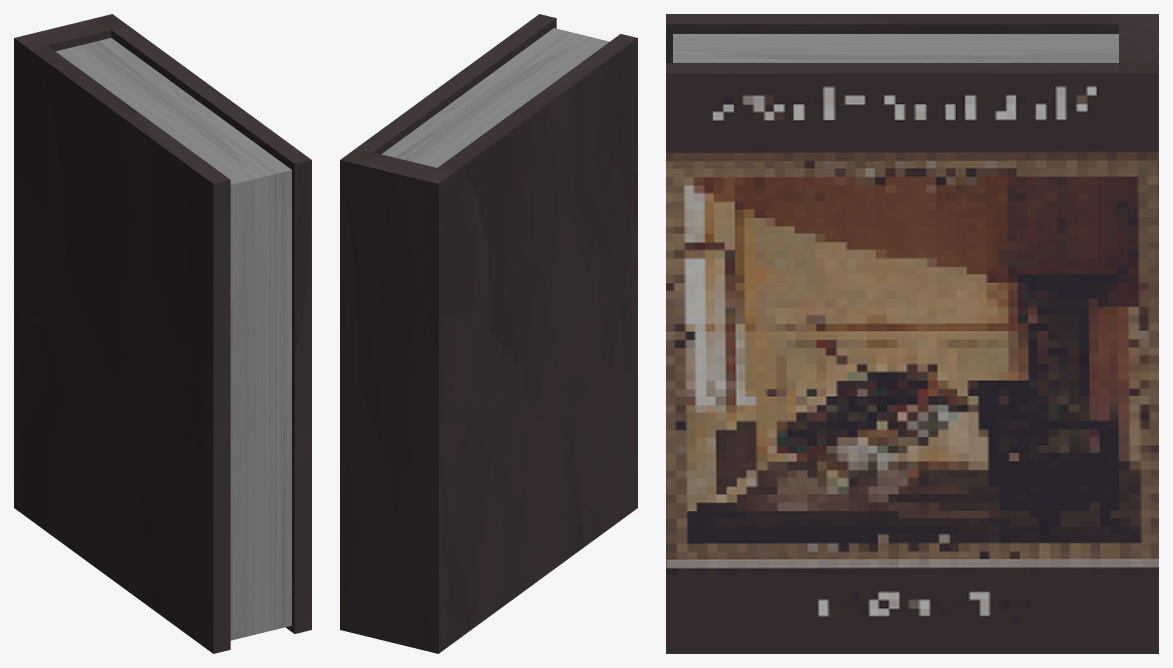
The model's file is M-Book2.fbx.
3 renders of one model, left to right at view 1: azimuth 30°, elevation 25°; view 2: azimuth 150°, elevation 25°; view 3: azimuth 270°, elevation 25°, orthographic. The views are drawn at different scales.
Parts seen in each view (by area): view 1: Cube.001; view 2: Cube.001; view 3: Cube.001.
Part boxes in pixels (x1,y1,x2,y2): Cube.001: [14, 14, 311, 653]; Cube.001: [340, 14, 637, 653]; Cube.001: [666, 14, 1158, 653].
Size of the model in its own units: 2.78 by 9.74 by 12.67.
1 material, 1 textured.
